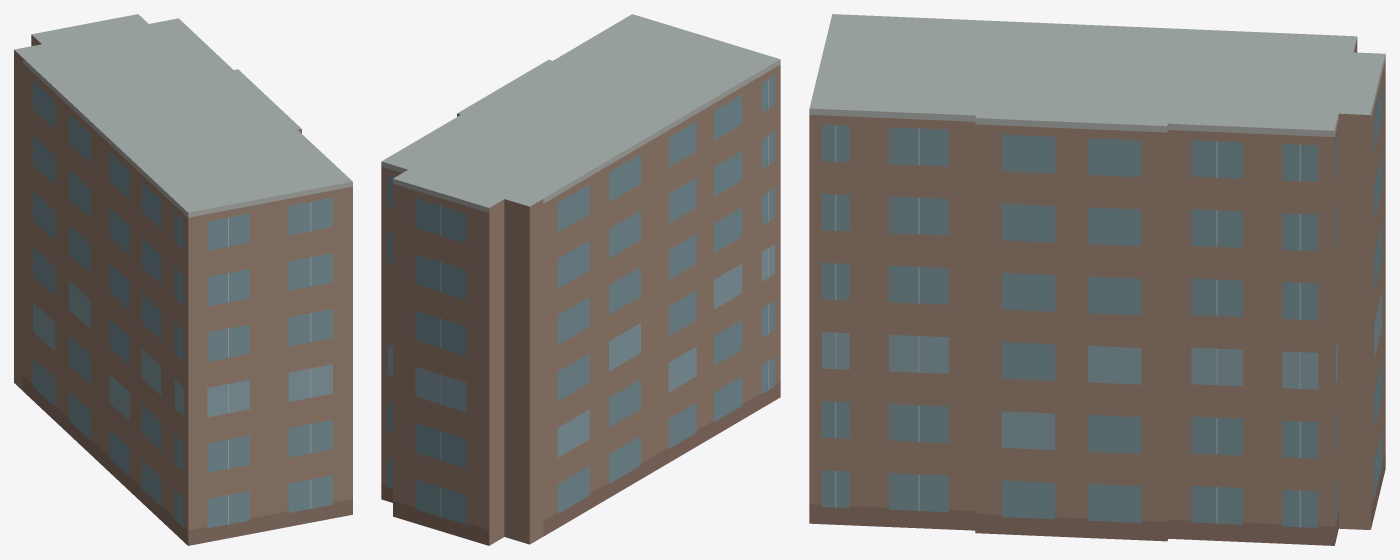
The model's file is survey-upis-32567220.glb.
3 renders of one model, left to right at view 1: azimuth 30°, elevation 25°; view 2: azimuth 150°, elevation 25°; view 3: azimuth 270°, elevation 25°, orthographic. The views are drawn at different scales.
Visible parts, largest first — view 1: survey-upis-32567220.tmp; view 2: survey-upis-32567220.tmp; view 3: survey-upis-32567220.tmp.
Part boxes in pixels (<box>): survey-upis-32567220.tmp: <box>14,14,352,545</box>; survey-upis-32567220.tmp: <box>381,14,780,545</box>; survey-upis-32567220.tmp: <box>809,14,1385,545</box>.
Size of the model in its own units: 9.73 by 16.1 by 20.27.
